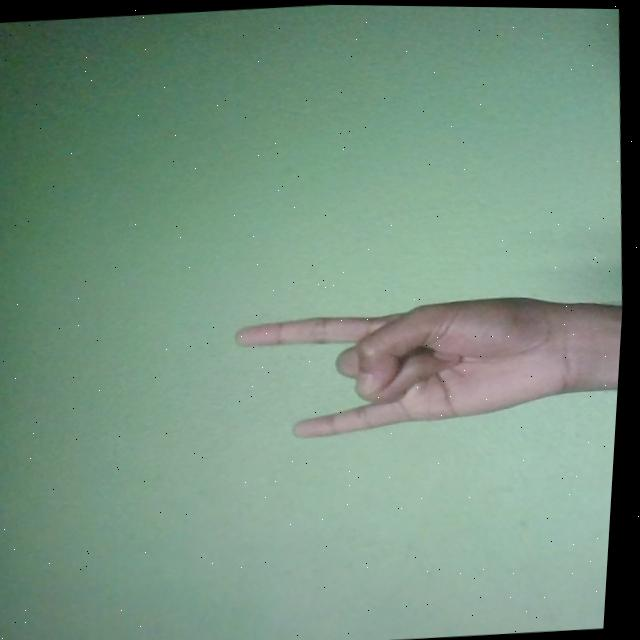Rock On: (230, 286, 593, 445)
